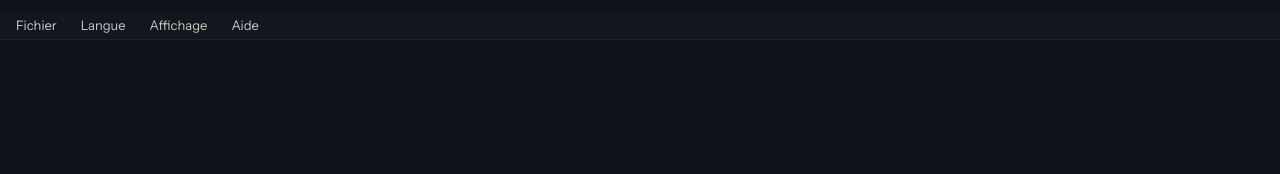
Test: MenuBar › closes when clicking outside
Click the menu item "Fichier": (36, 26) left=4, top=12, right=69, bottom=40
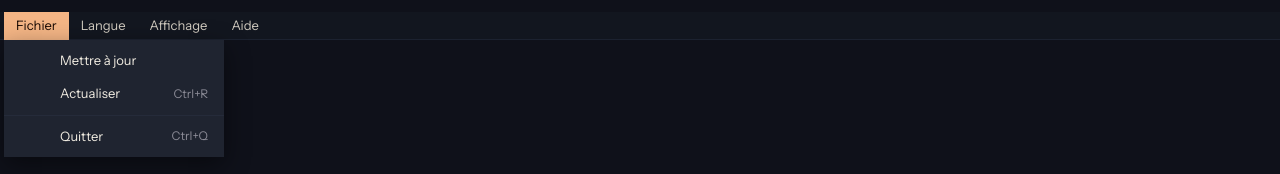
Result: the menu is shown at left=4, top=40, right=224, bottom=157
Press the mouse on the element that starts with "Fichier": (640, 26) left=0, top=12, right=1279, bottom=40
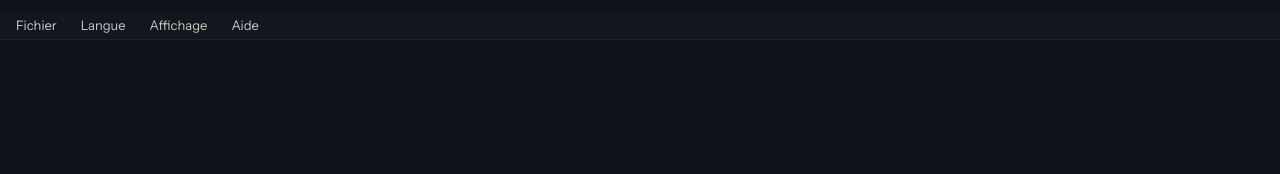
Result: the menu is gone
